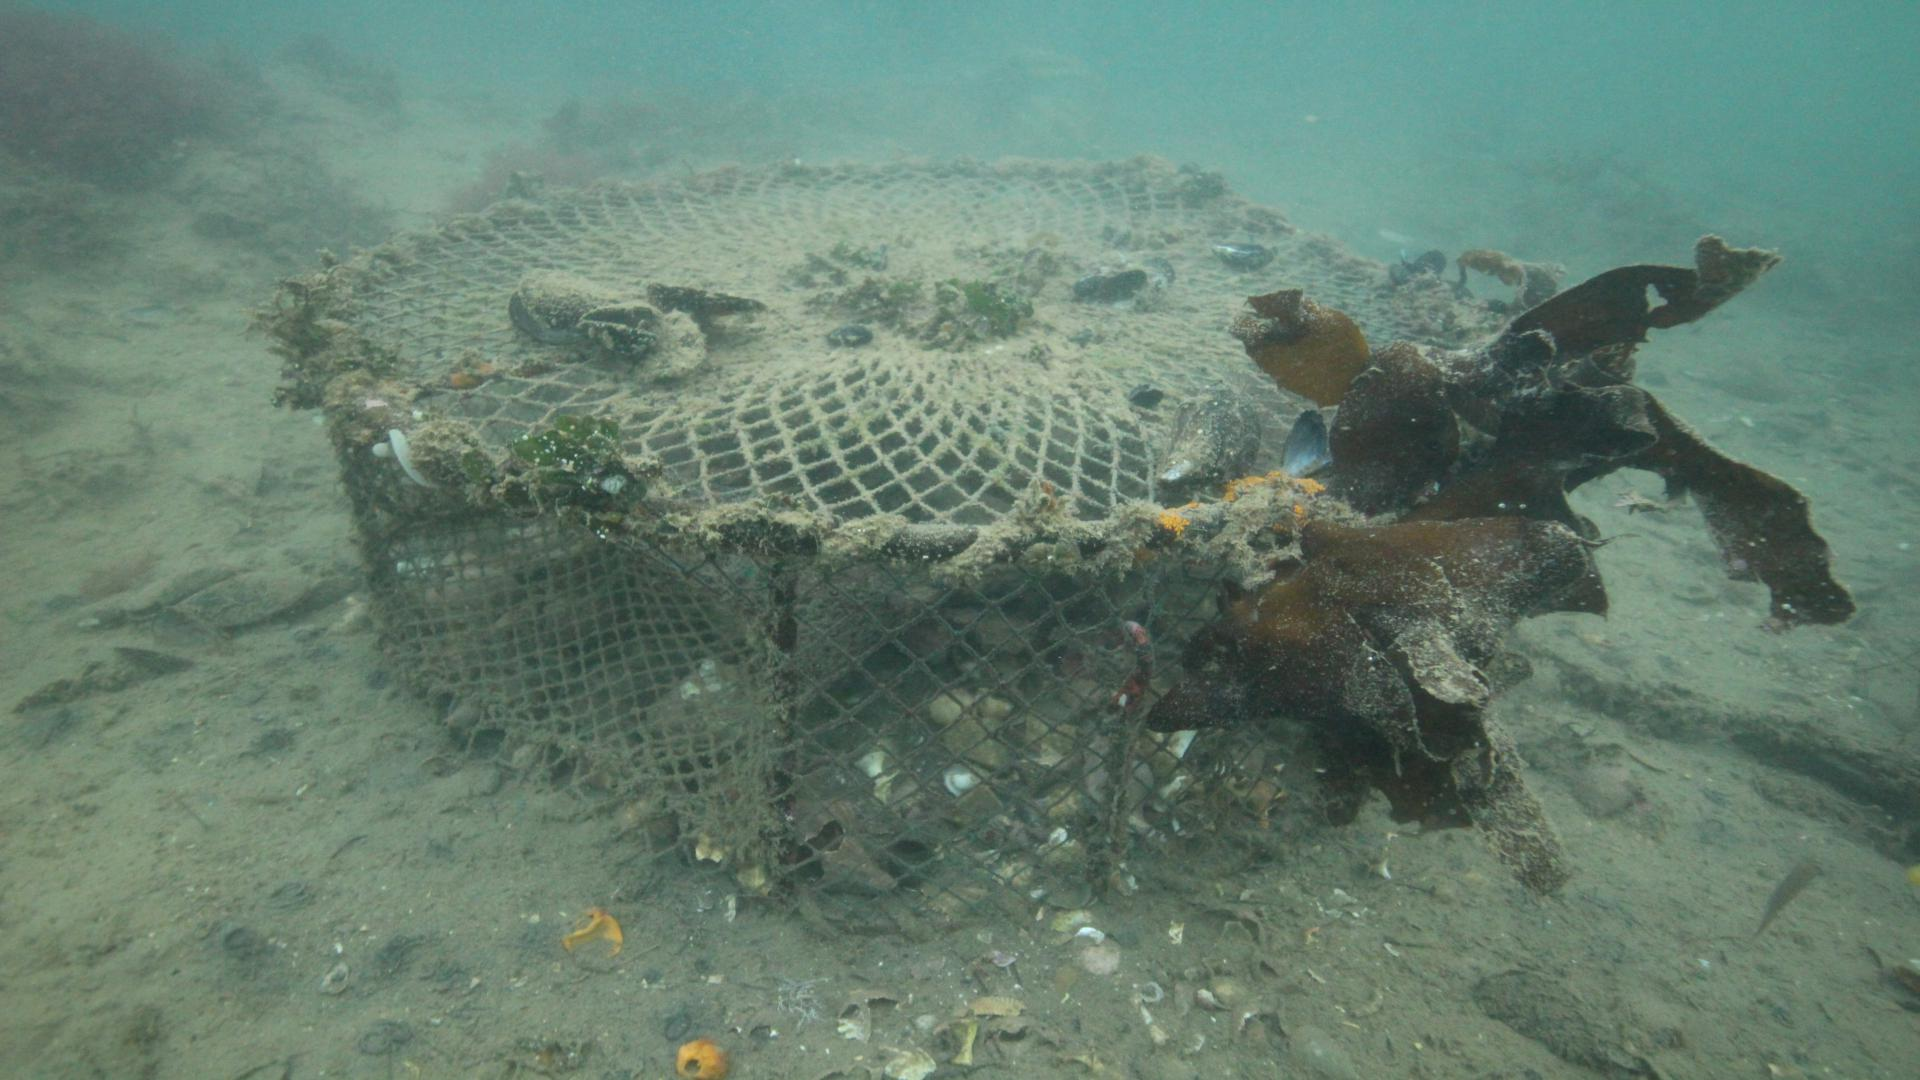circular fish trap: (309, 152, 1514, 936)
